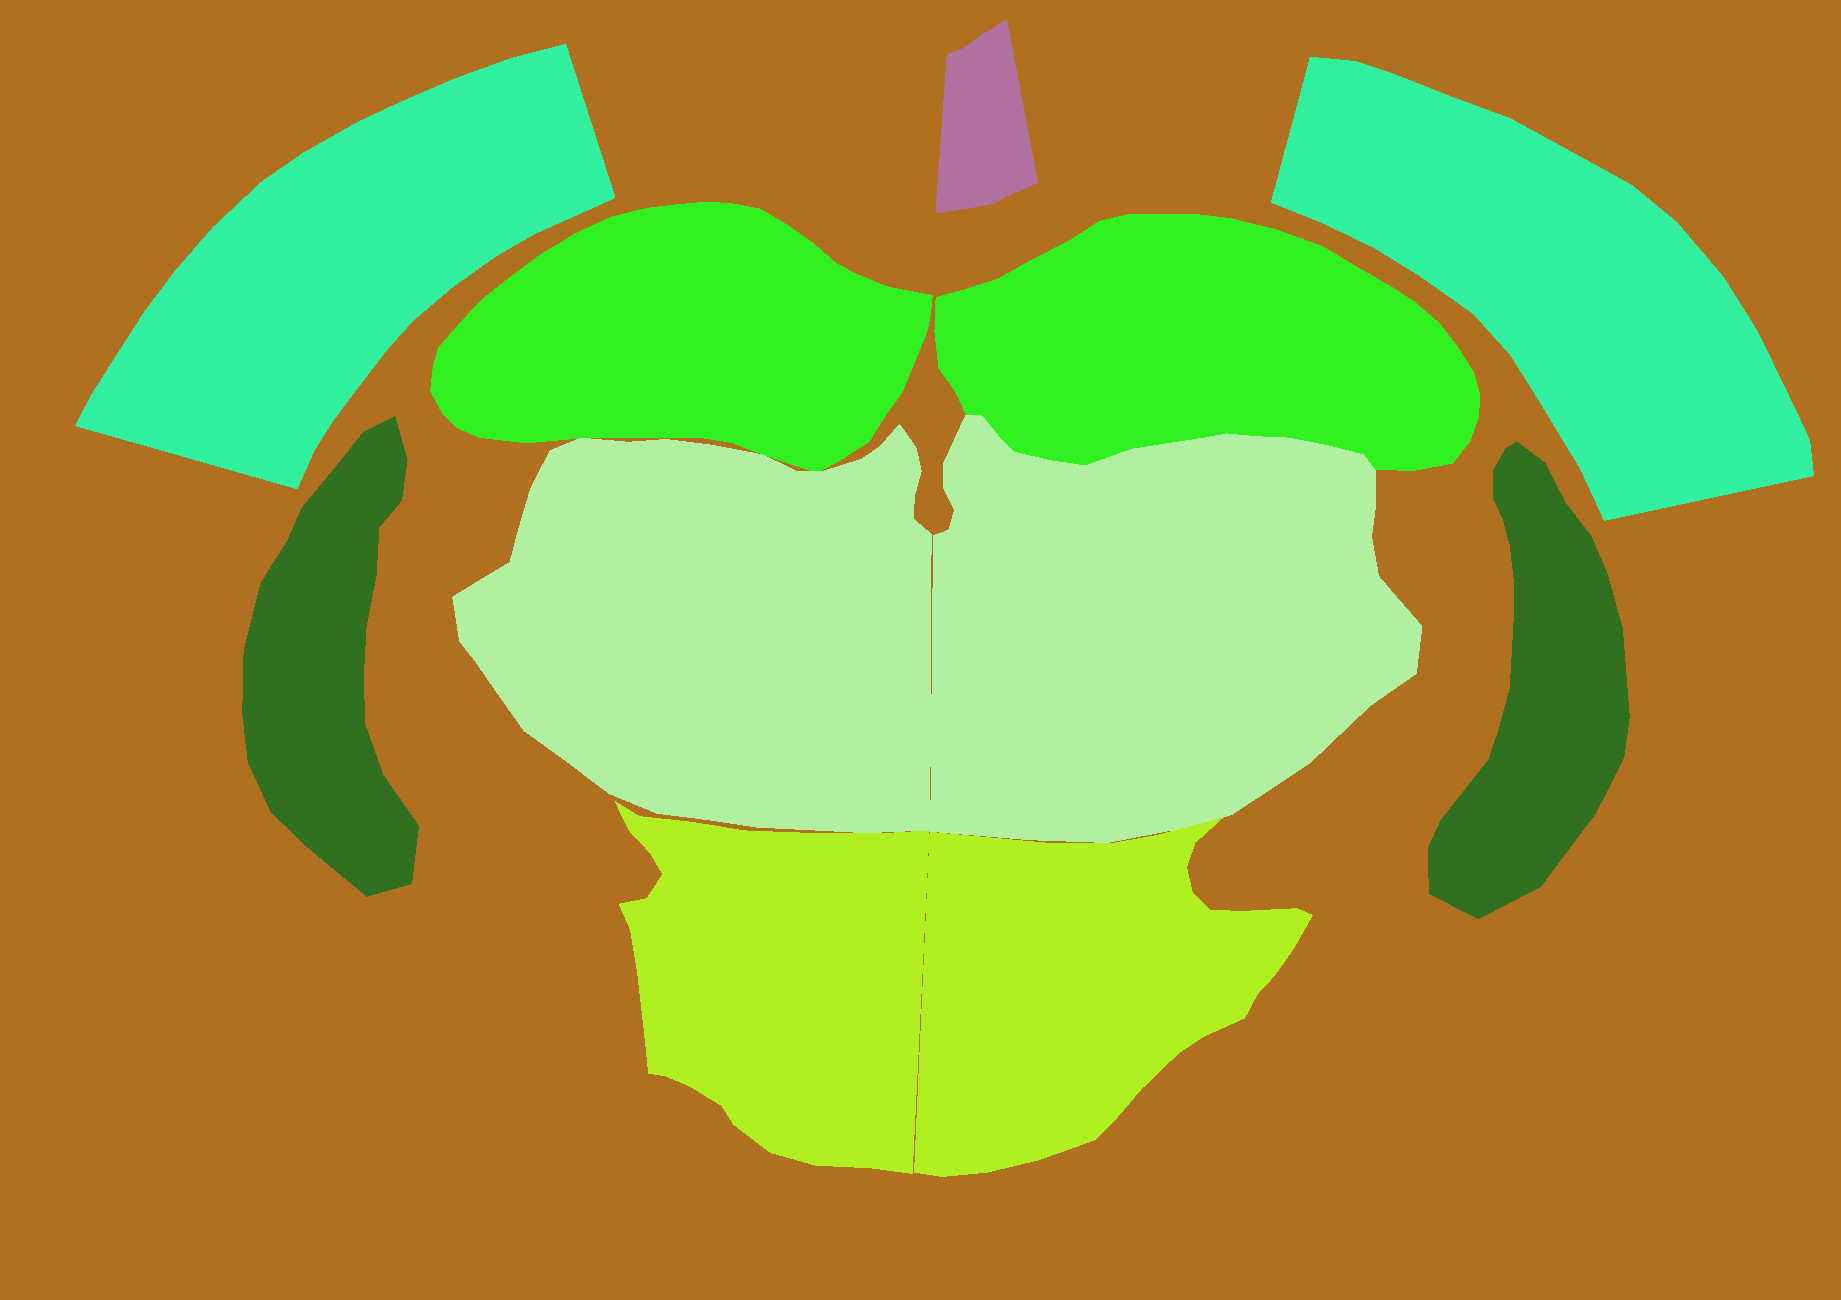Cerebral nuclei: (1428, 440, 1630, 919), (242, 416, 419, 898)
Hippocampal formation: (934, 214, 1480, 471), (430, 203, 932, 473)
Hypothalamus: (914, 816, 1314, 1178), (615, 801, 930, 1173)
Retrosplenial area: (935, 20, 1038, 212)
Somatosensory area: (1271, 58, 1814, 521), (75, 44, 616, 490)
Thalamus: (930, 415, 1422, 843), (451, 423, 931, 834)
